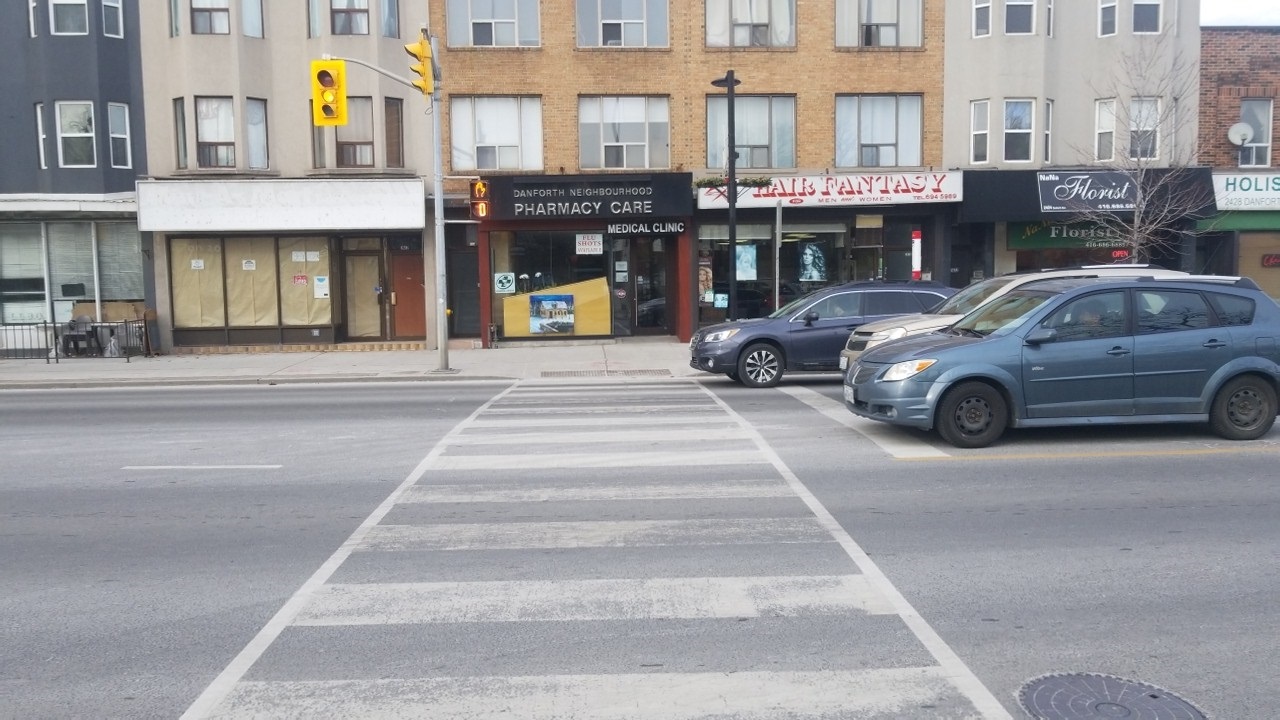light: (467, 177, 491, 223)
